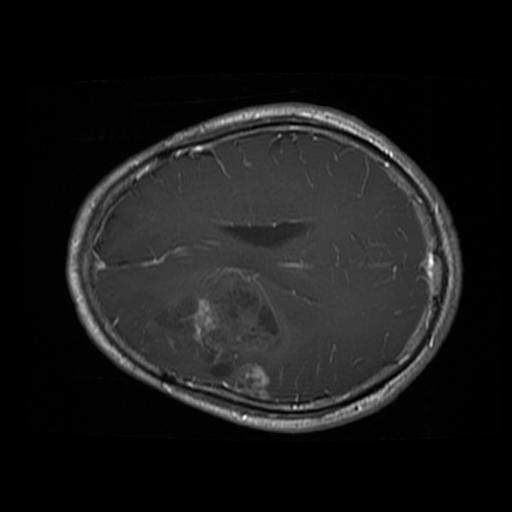glioma: (153, 265, 284, 400)
